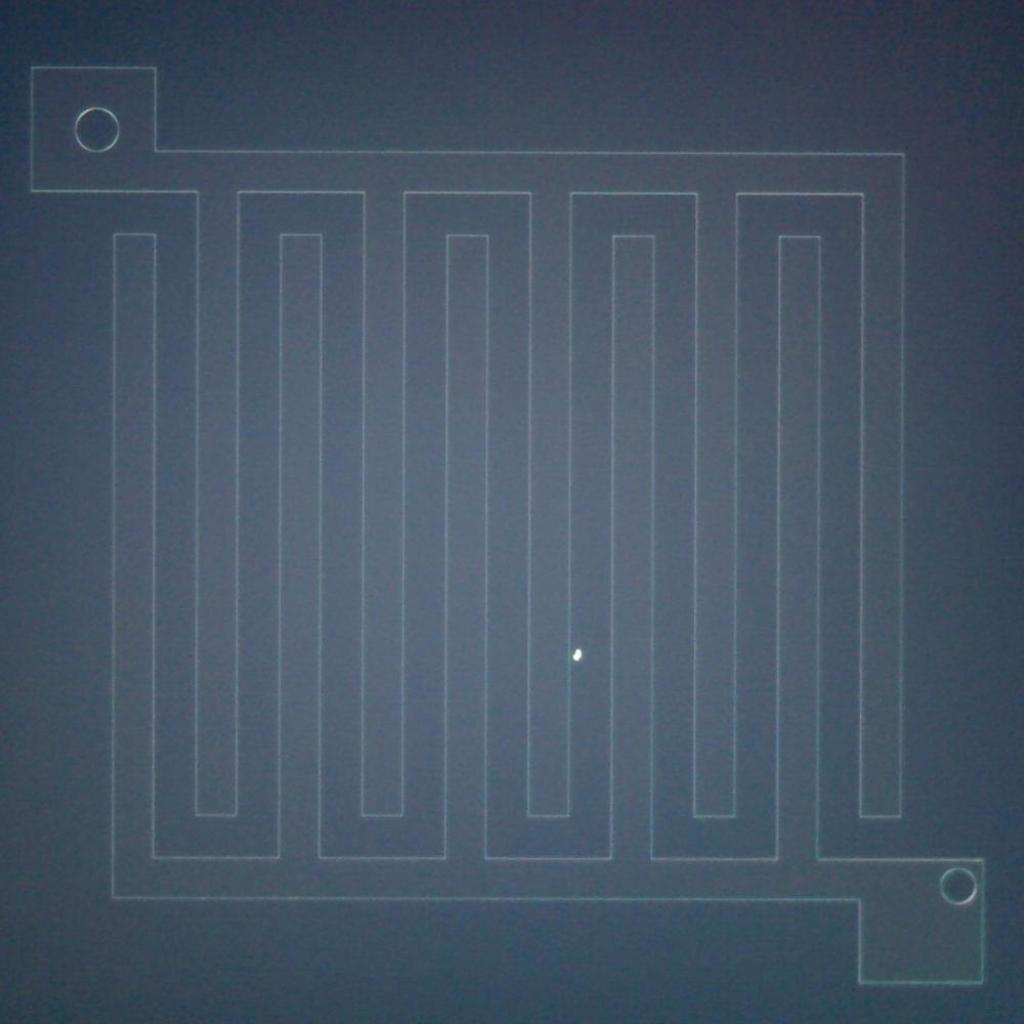circle: (70, 101, 124, 155), (938, 864, 980, 904)
spot: (565, 636, 587, 670)
